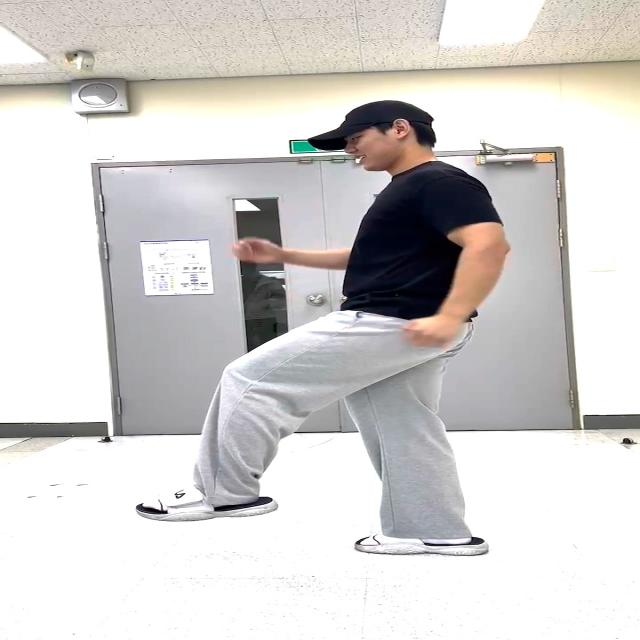leg: (138, 320, 344, 550)
